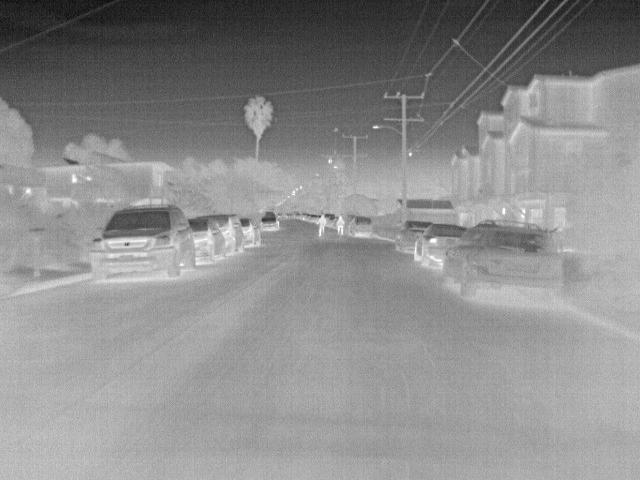car: (441, 219, 567, 304), (88, 205, 199, 283), (412, 220, 466, 270), (186, 215, 225, 264), (209, 216, 244, 252), (395, 219, 431, 253), (346, 214, 373, 237), (238, 220, 260, 248), (255, 212, 281, 229)
person: (315, 212, 328, 236), (333, 214, 346, 236)
